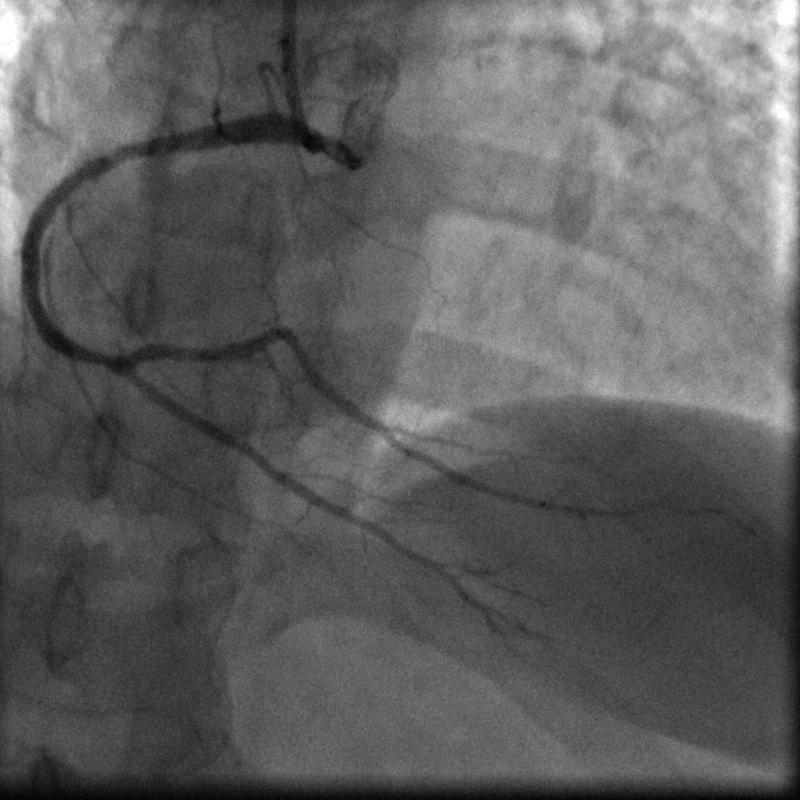Stenosis: (93, 349, 120, 376)
